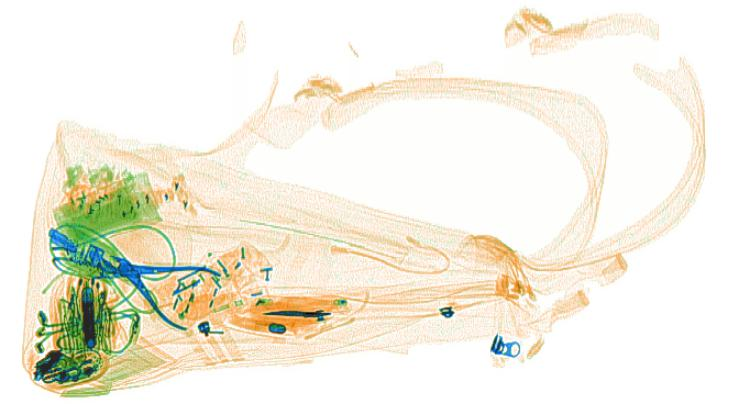plasticBottleWithaNozzle: (174, 280, 273, 329)
